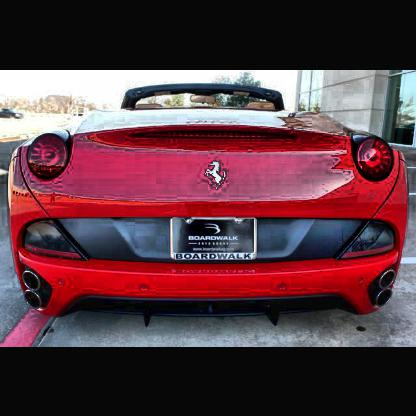Ferrari California Convertible 2012: (8, 83, 410, 319)
